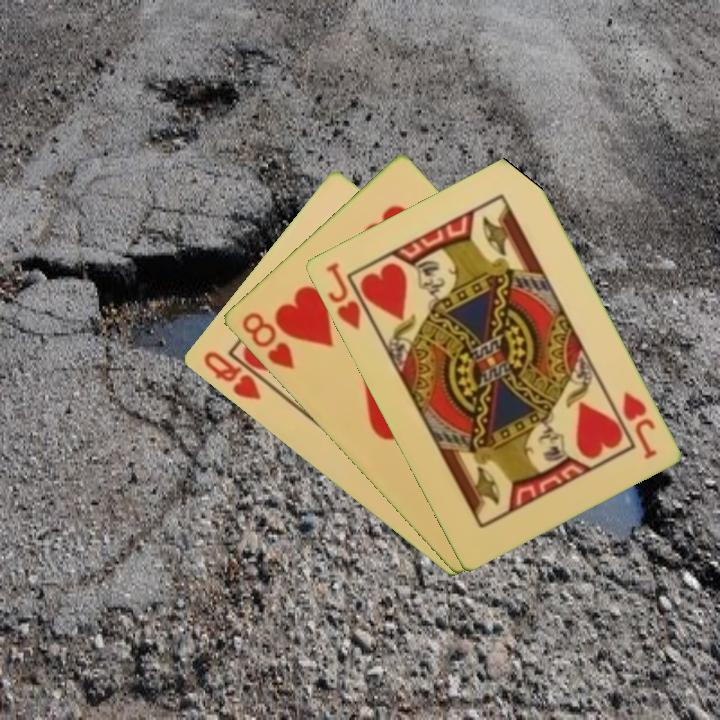8h: (237, 308, 297, 373)
Jh: (618, 388, 660, 463), (322, 258, 363, 333)
Qh: (199, 347, 275, 403)
